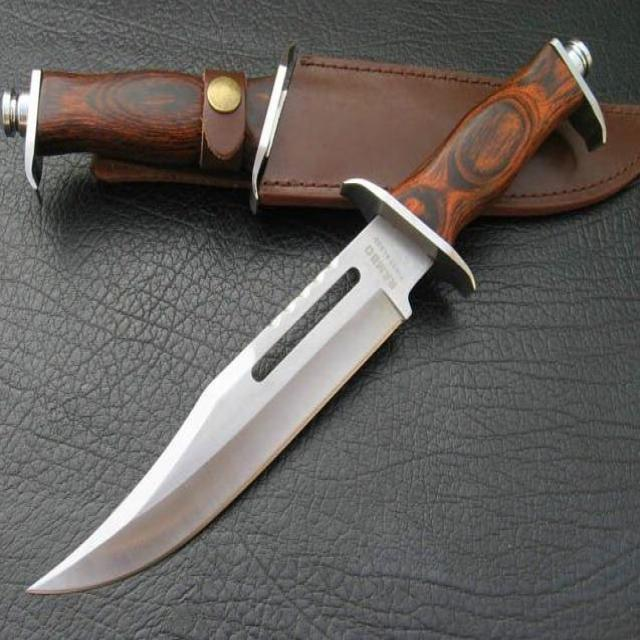knife: (3, 5, 611, 640)
